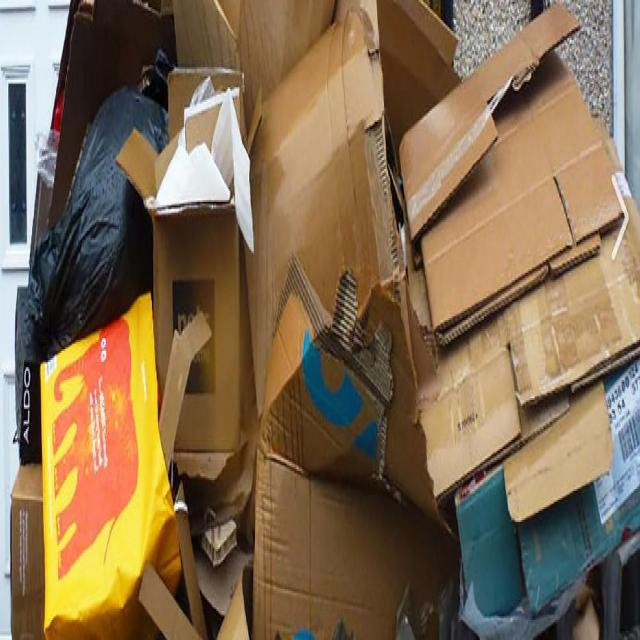paper: (400, 2, 626, 330), (121, 71, 271, 453), (36, 285, 175, 640), (418, 342, 535, 496), (586, 348, 640, 546)
plastic: (26, 81, 172, 380)
